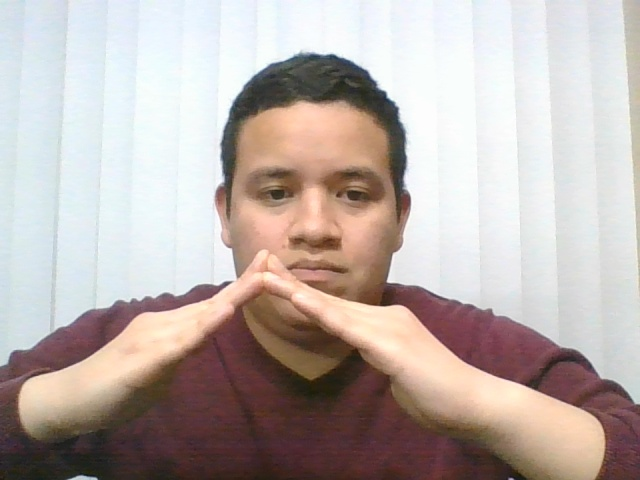House: (7, 235, 541, 460)
